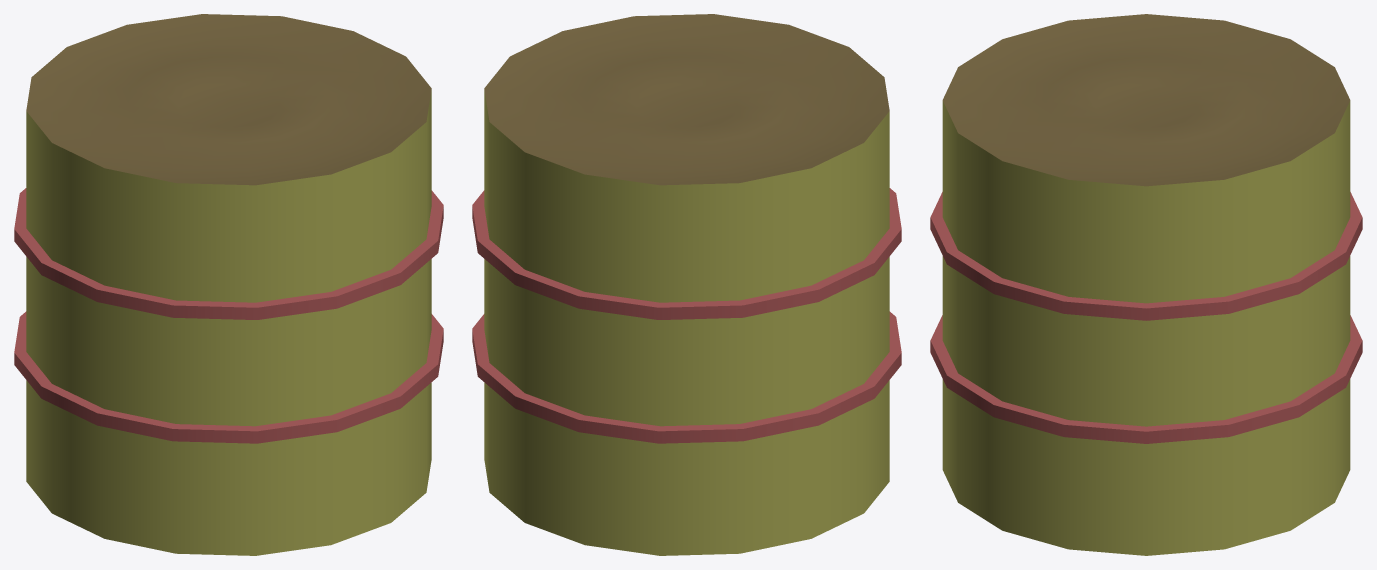
File: MOD_HayBale_round.fbx
3 views of the same model, side by side, from view 1: azimuth 30°, elevation 25°; view 2: azimuth 150°, elevation 25°; view 3: azimuth 270°, elevation 25° (orthographic).
Parts seen in each view (by area): view 1: HayBale_Round; view 2: HayBale_Round; view 3: HayBale_Round.
Part boxes in pixels (x1,y1,x2,y2): HayBale_Round: [14, 14, 443, 555]; HayBale_Round: [472, 14, 901, 555]; HayBale_Round: [930, 14, 1362, 555].
Bounding box in the file's own units: 212 × 200 × 212.
